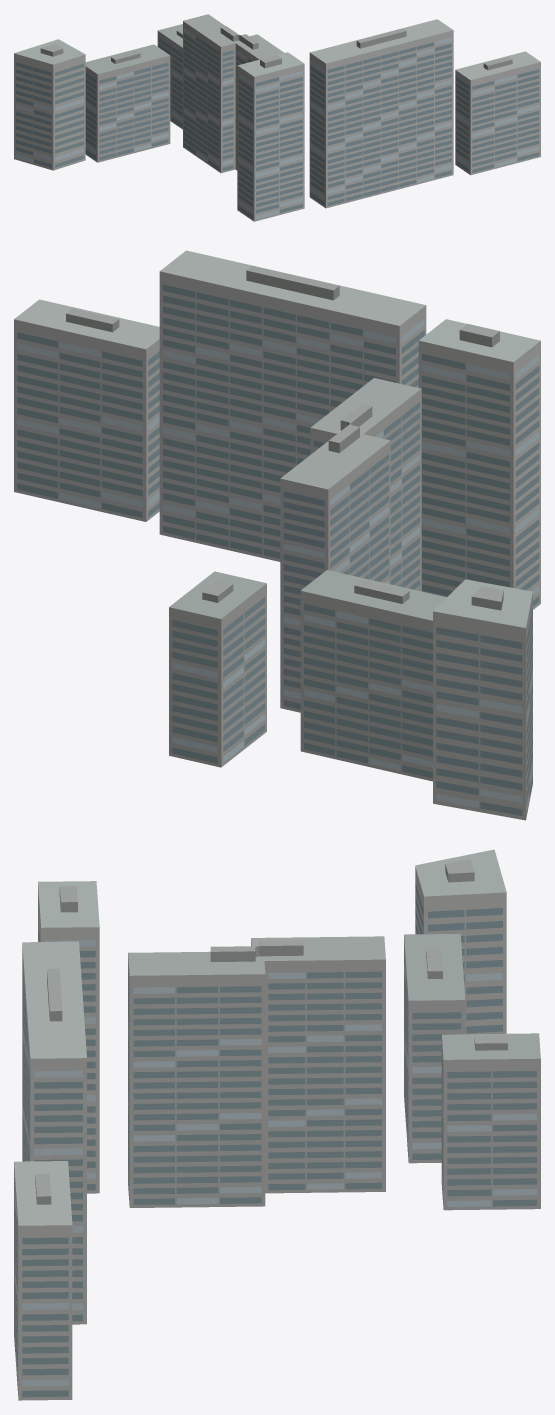
The model's file is apt-a13583701.glb.
3 views of the same model, one above another, from view 1: azimuth 30°, elevation 25°; view 2: azimuth 150°, elevation 25°; view 3: azimuth 270°, elevation 25° (orthographic). The views are drawn at different scales.
Visible parts, largest first — view 1: apt-a13583701; view 2: apt-a13583701; view 3: apt-a13583701.
Part boxes in pixels (box(x1,y1,x2,y2)): apt-a13583701: box(14, 14, 540, 221); apt-a13583701: box(14, 250, 540, 820); apt-a13583701: box(14, 849, 540, 1400).
Size of the model in its own units: 180 by 65 by 112.
